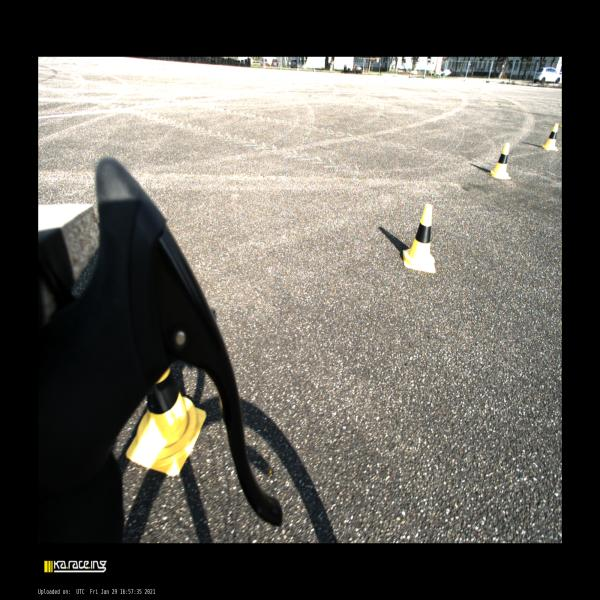yellow_cone: (126, 366, 206, 476), (403, 204, 436, 273), (488, 142, 511, 179), (540, 124, 558, 150)
